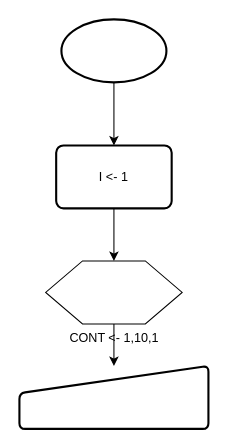
This 227x447 diagram has some shape labels left out. The shapes that lost their labels are listed below. From the top down, each one's box as (x1, y1, x2, y2) in pixels, then its label:
(60, 18, 167, 83): Inicio
(18, 364, 209, 429): IDADE,NICK,OP,PESSOAS
